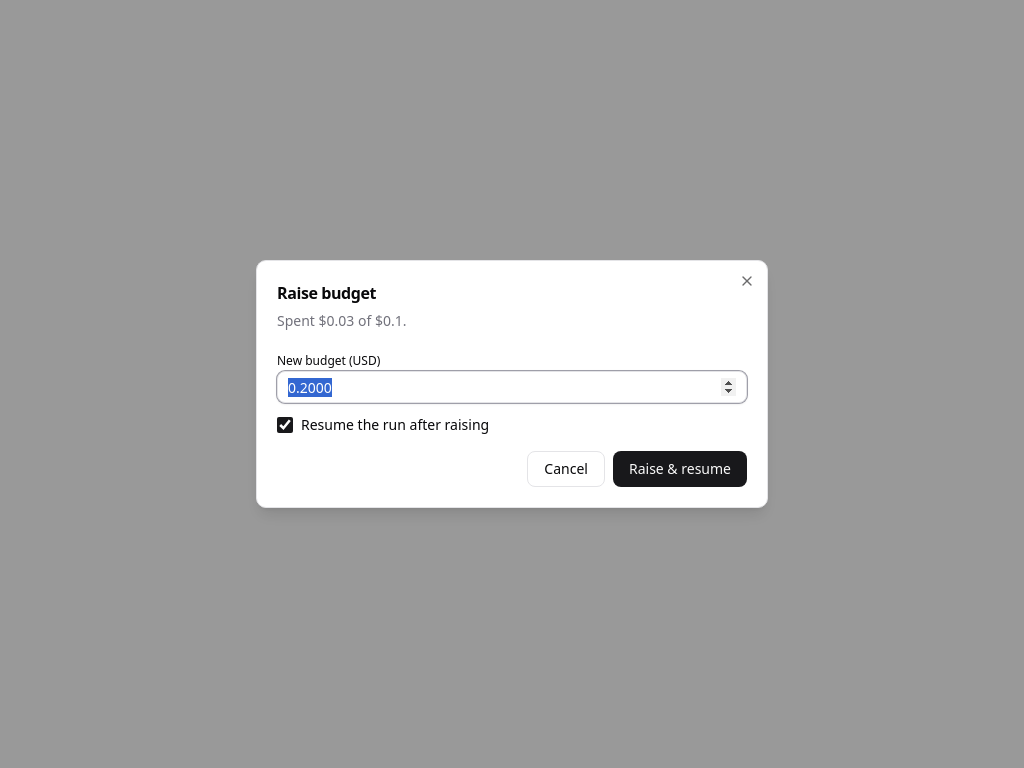
Test case: RaiseBudgetDialog › surfaces a 409 conflict on the raise and stays open
This screenshot has width=1024, height=768.
Replace the text in the number field with test id "budget-input" with "1". click: (512, 387)
box: [277,371,747,403]
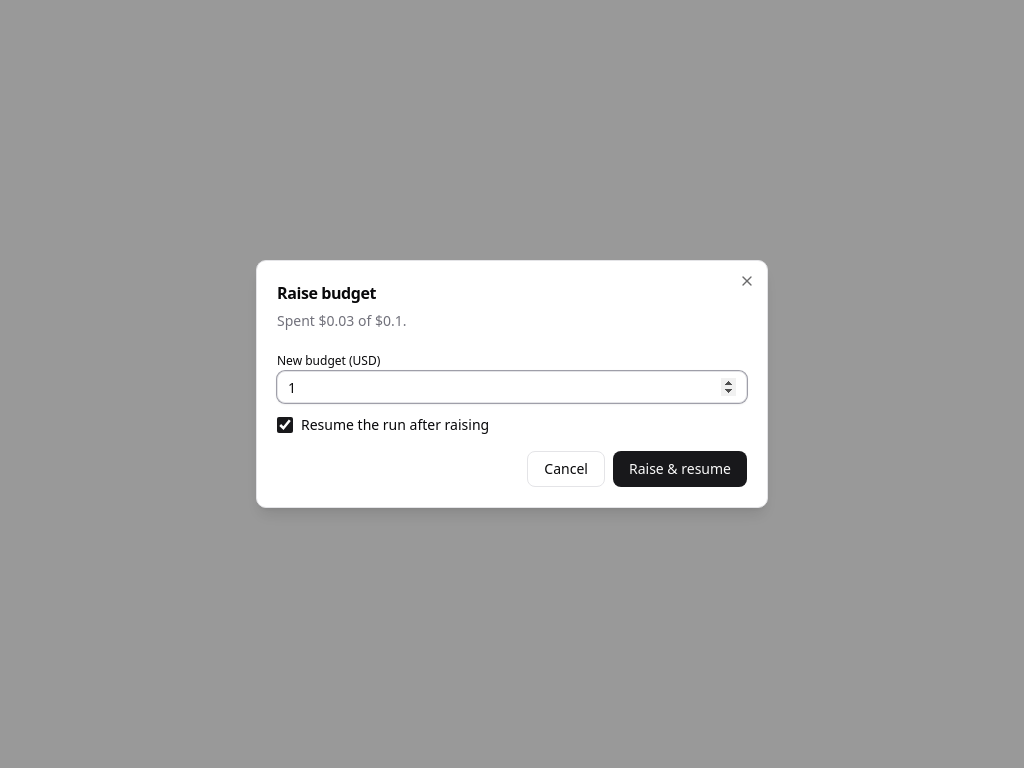
Click the button with test id "budget-confirm". click: (680, 469)
box: [613,451,747,487]
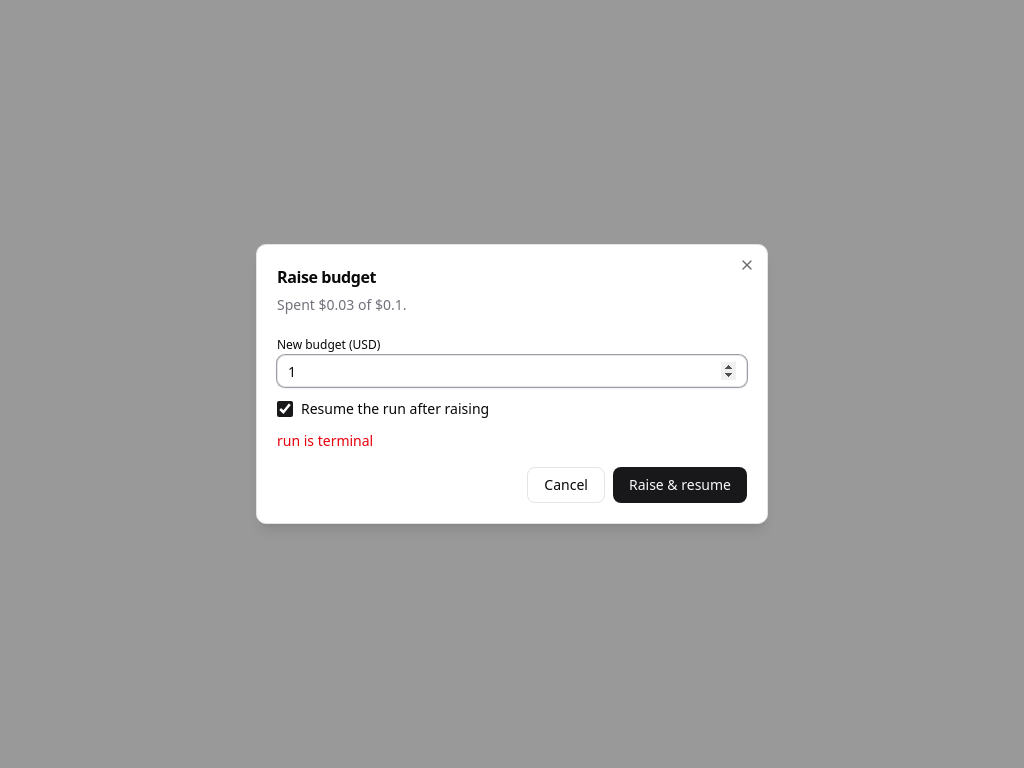
Expected: the text with test id "budget-error" shows "terminal", [277,431,373,450]
